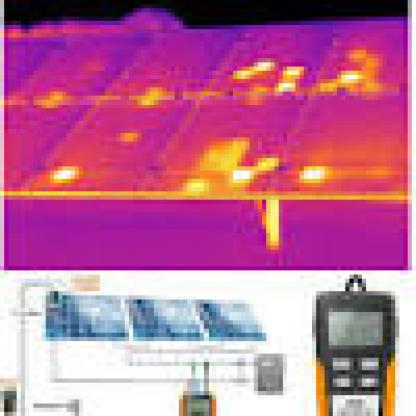Defects: (304, 166, 328, 183), (287, 71, 304, 79)
